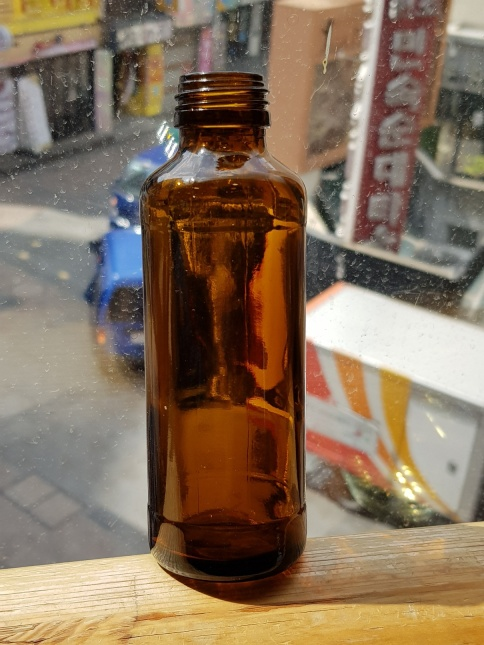Glass: (139, 69, 310, 590)
